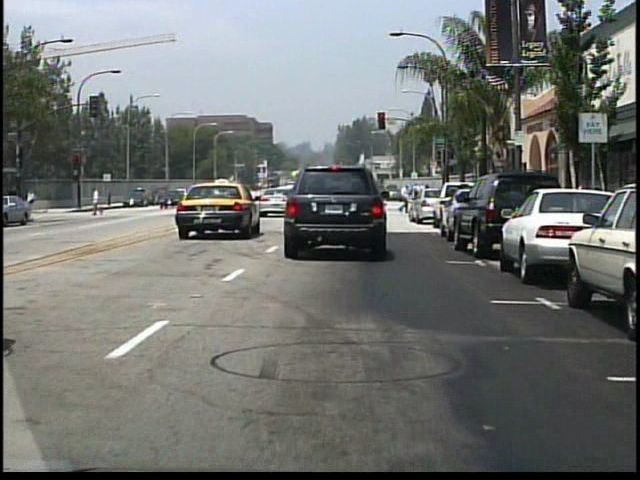person: (395, 182, 413, 216), (90, 187, 106, 218), (26, 188, 39, 213)
